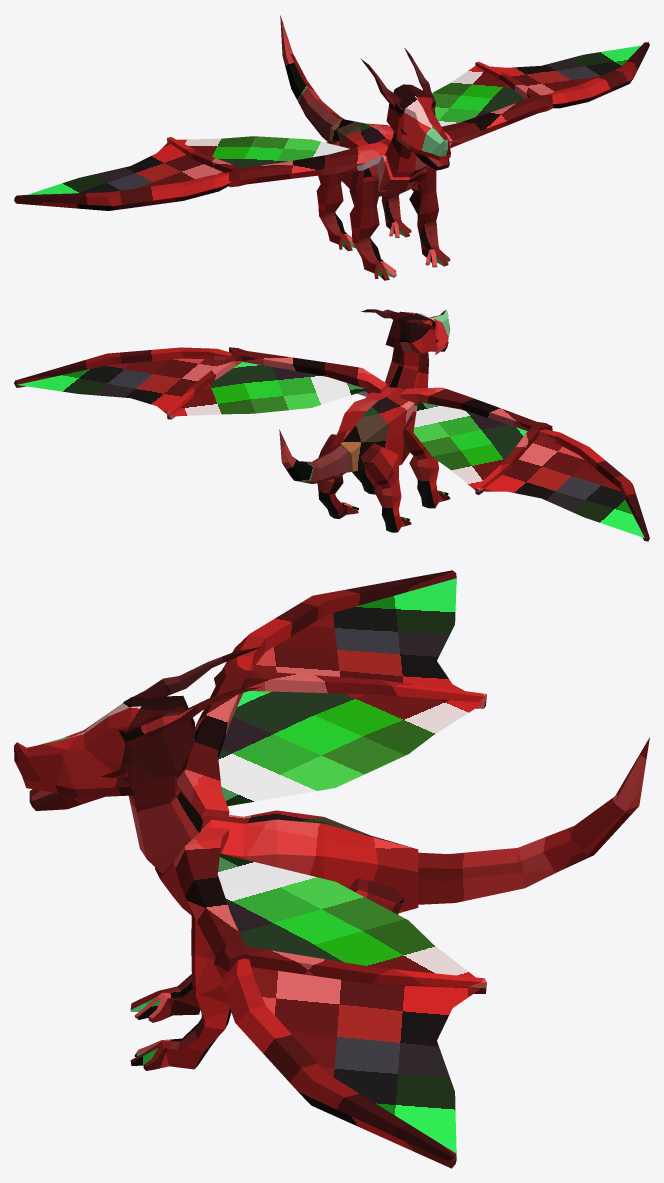
The model's file is ignibus.obj.
3 renders of one model, top to bottom at view 1: azimuth 30°, elevation 25°; view 2: azimuth 150°, elevation 25°; view 3: azimuth 270°, elevation 25°, orthographic. The views are drawn at different scales.
Parts seen in each view (by area): view 1: WingRight02, WingRight01, WingLeft01, WingLeft02, Head, LegRightFront, Body, LegLeftFront, LegRightBack, Tail01, Neck, Tail02 (+1 smaller); view 2: WingLeft01, WingRight01, WingRight02, WingLeft02, Body, Head, LegRightBack, LegRightFront, Neck, LefLeftBack, Tail01, Tail02; view 3: WingLeft02, WingRight01, WingLeft01, WingRight02, Head, Body, Tail01, LegLeftFront, Neck, Tail02, LegRightFront, Mouth (+1 smaller).
Part boxes in pixels (bbox=[...]): WingRight02: bbox=[14, 142, 230, 210]; WingRight01: bbox=[167, 136, 387, 187]; WingLeft01: bbox=[432, 61, 553, 148]; WingLeft02: bbox=[490, 42, 649, 108]; Head: bbox=[360, 48, 450, 160]; LegRightFront: bbox=[349, 166, 396, 280]; Body: bbox=[329, 119, 426, 196]; LegLeftFront: bbox=[409, 165, 450, 267]; LegRightBack: bbox=[316, 140, 355, 251]; Tail01: bbox=[298, 87, 344, 141]; Neck: bbox=[385, 132, 427, 177]; Tail02: bbox=[280, 15, 314, 102]; WingLeft01: bbox=[166, 347, 388, 419]; WingRight01: bbox=[400, 387, 552, 494]; WingRight02: bbox=[481, 429, 649, 541]; WingLeft02: bbox=[14, 347, 231, 413]; Body: bbox=[330, 387, 416, 472]; Head: bbox=[361, 309, 450, 354]; LegRightBack: bbox=[360, 443, 411, 532]; LegRightFront: bbox=[403, 411, 450, 508]; Neck: bbox=[385, 348, 428, 389]; LefLeftBack: bbox=[317, 434, 358, 518]; Tail01: bbox=[304, 445, 349, 483]; Tail02: bbox=[279, 429, 313, 482]; WingLeft02: bbox=[222, 958, 480, 1168]; WingRight01: bbox=[177, 660, 486, 818]; WingLeft01: bbox=[173, 827, 486, 993]; WingRight02: bbox=[223, 570, 464, 690]; Head: bbox=[14, 647, 261, 797]; Body: bbox=[155, 810, 418, 915]; Tail01: bbox=[418, 837, 556, 904]; LegLeftFront: bbox=[130, 911, 231, 1070]; Neck: bbox=[129, 775, 202, 874]; Tail02: bbox=[543, 737, 649, 872]; LegRightFront: bbox=[130, 974, 200, 1022]; Mouth: bbox=[29, 768, 139, 810].
Size of the model in its own units: 29.47 by 8.69 by 13.46.
